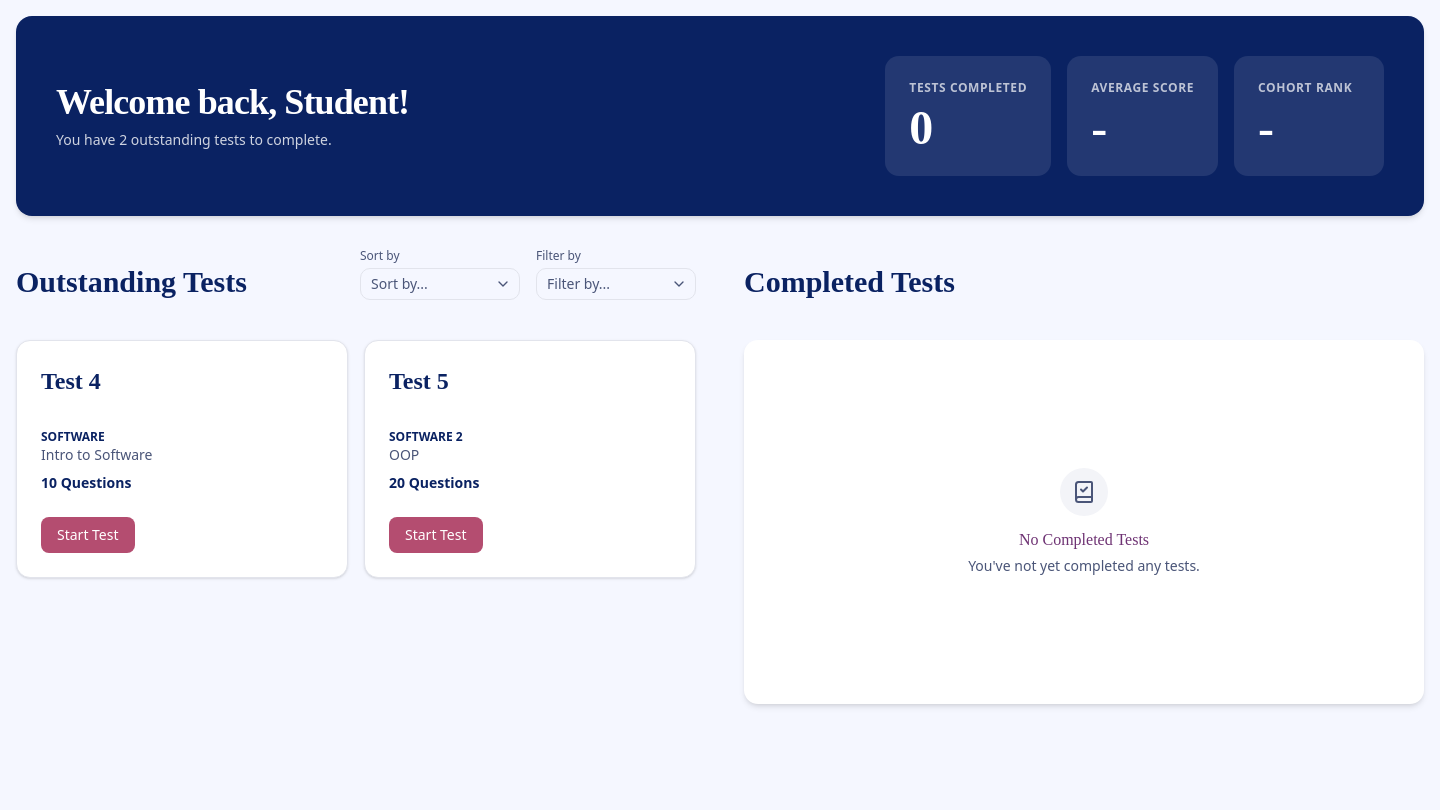
Scenario: Dashboard Page › filters outstanding test cards by subject
Click the dropdown with id "outstandingFilter" at (616, 284), box [536,268,696,300]
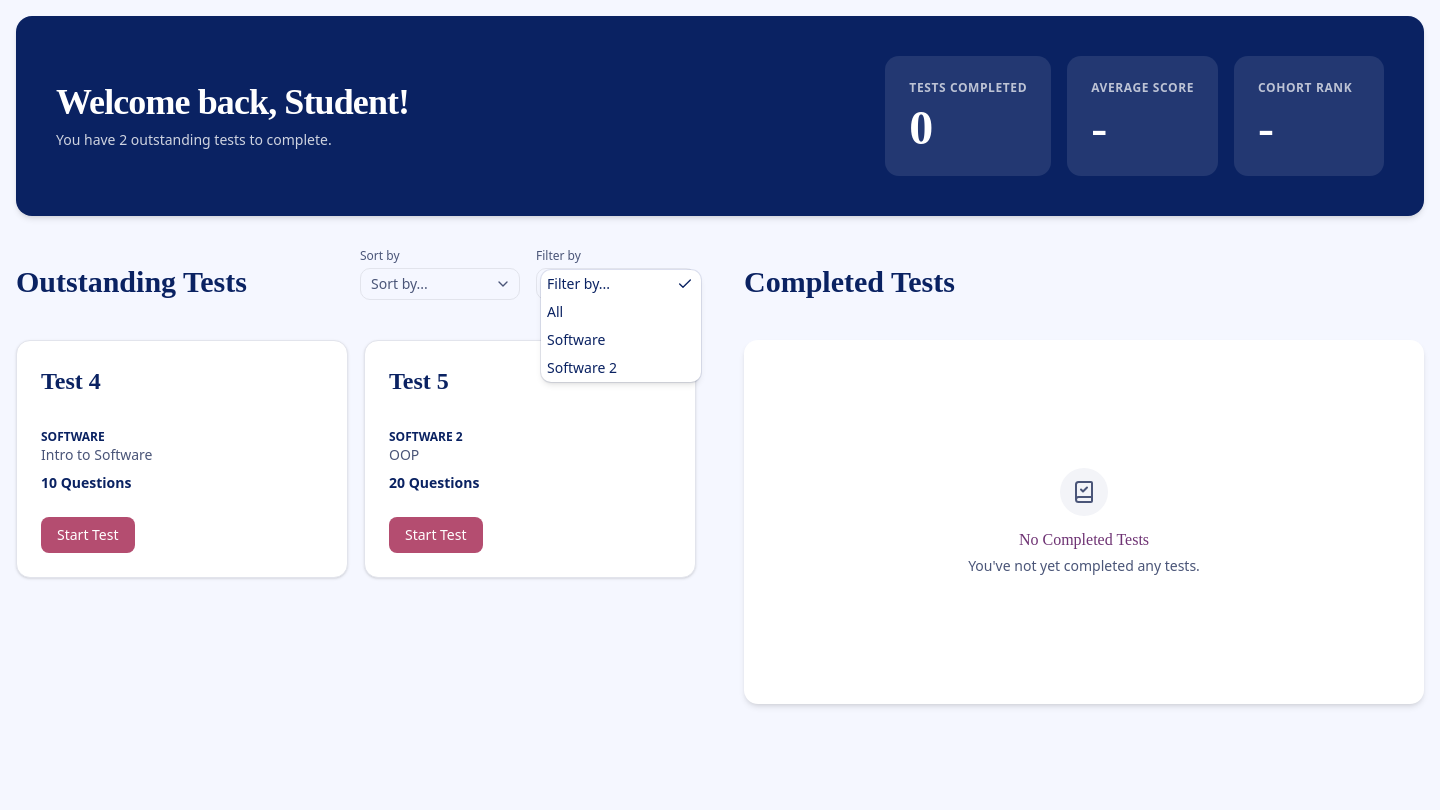
Press the mouse on the option with test id "outstanding-filter-Software 2" at (582, 368), box [547,358,617,377]
Click the option with test id "outstanding-filter-Software 2" at (582, 368), box [547,358,617,377]
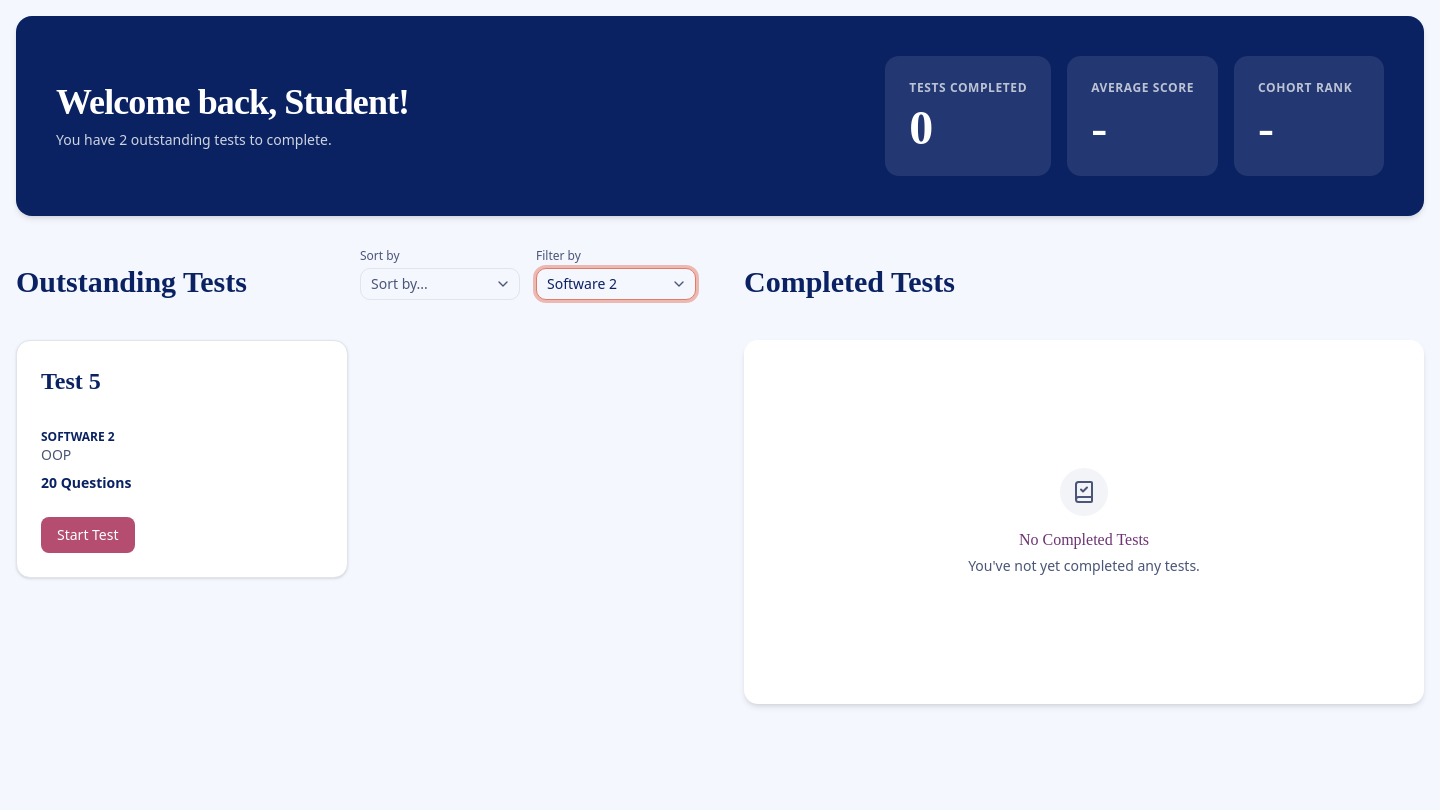
expect the text "Test 5" is shown: met, box [41,368,101,394]
expect the text "Test 4" is gone: met
